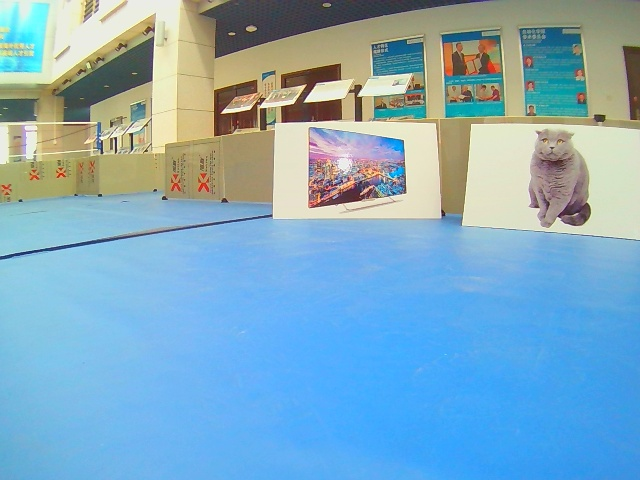pet: (461, 121, 640, 242)
tv: (272, 121, 443, 222)
